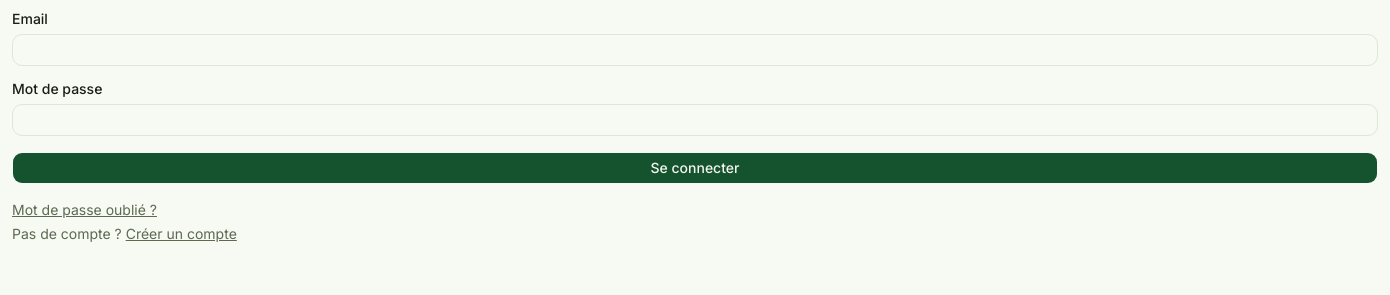
Test: LoginForm › affiche l'erreur renvoyée par le serveur
This screenshot has width=1390, height=295.
Type "a@b.com" into the field labelled "Email".
click(695, 50); type("a@b.com")  # box [12,34,1378,66]
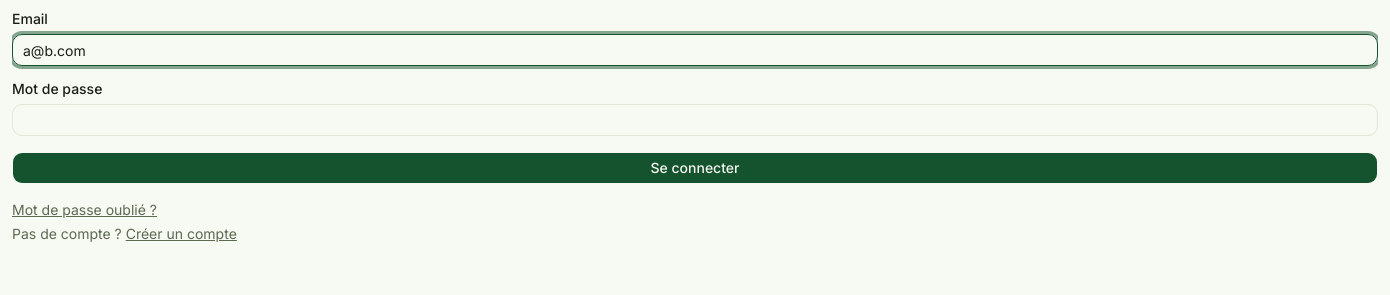
Type "secret12" into the password field labelled "Mot de passe".
click(695, 120); type("secret12")  # box [12,104,1378,136]
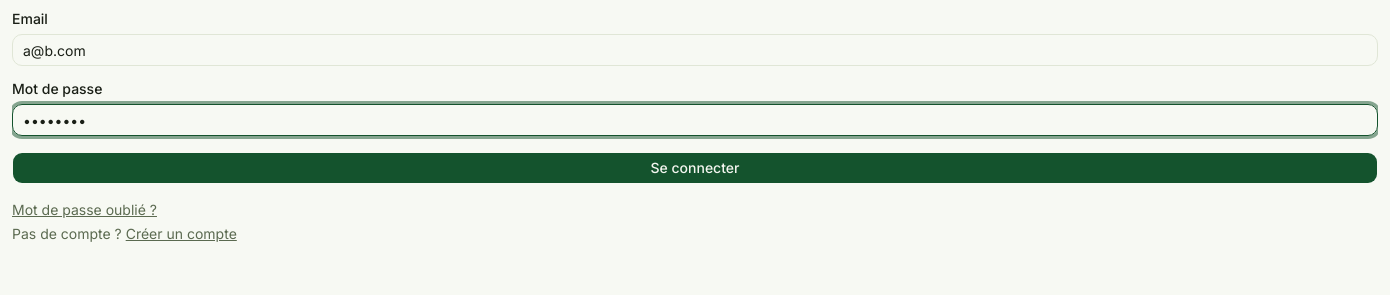
Click the button "Se connecter".
click(695, 168)  # box [12,152,1378,184]
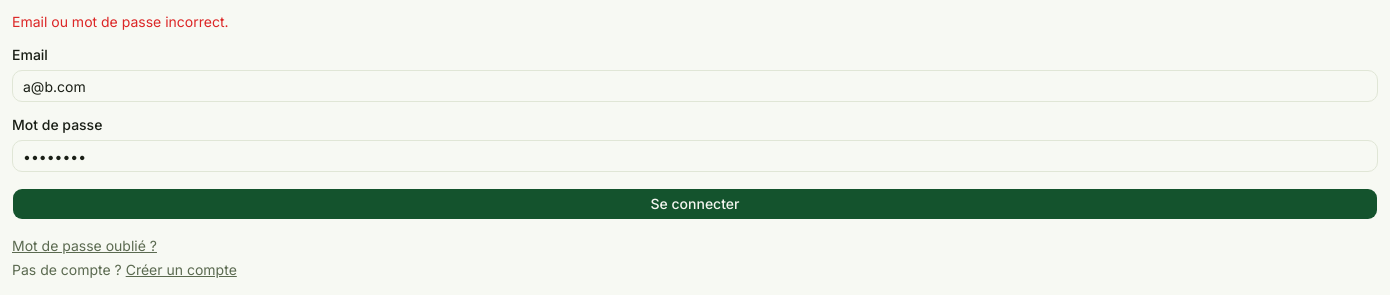
Now the message shows "incorrect", box [12,13,228,30]
